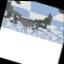drone: (2, 0, 55, 34)
